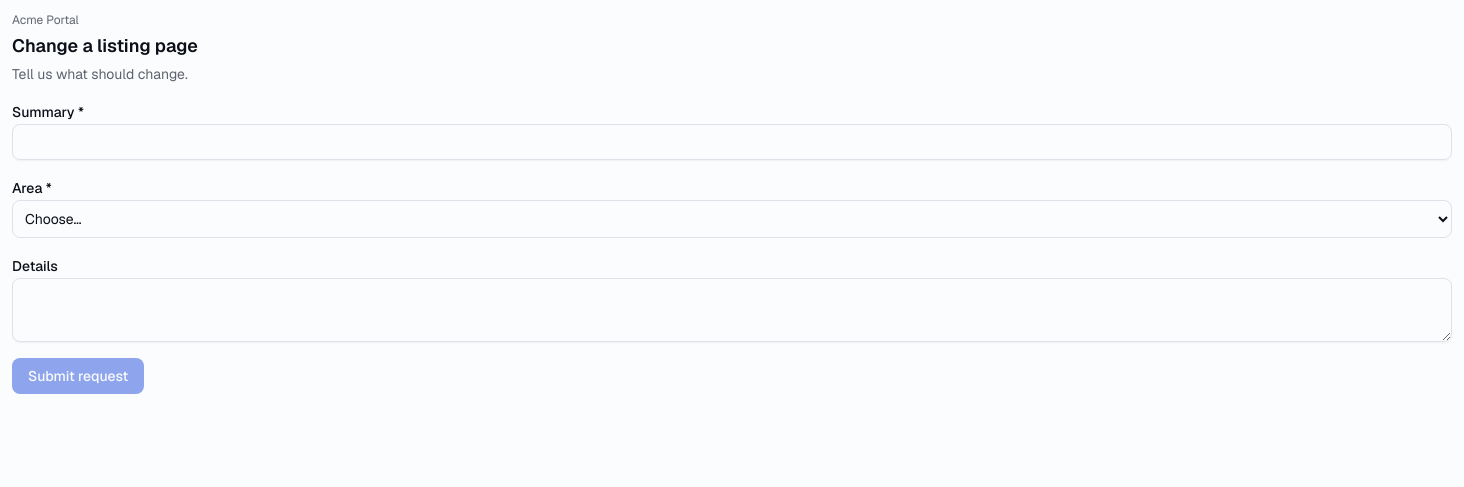
Test case: RequestForm › reveals a conditional field only when its condition is met
This screenshot has width=1464, height=487.
Check: the field labelled "Listing URL" is not shown
Select "Listings" in the dropdown labelled "Area *" at (732, 219), box [12, 200, 1452, 238]
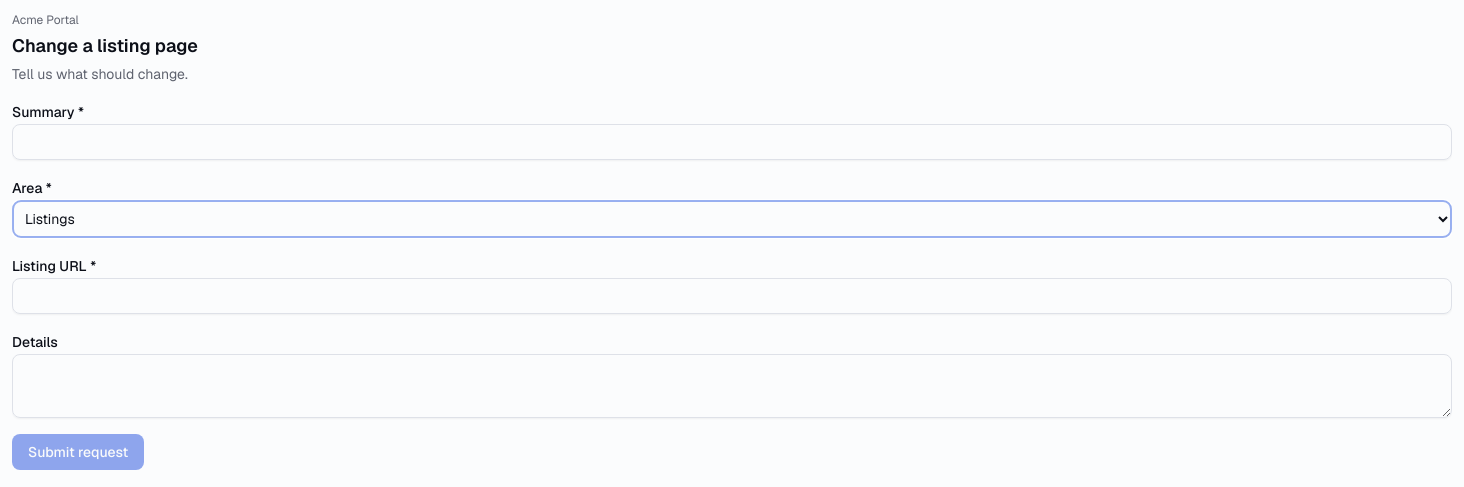
Select "Search" in the dropdown labelled "Area *" at (732, 219), box [12, 200, 1452, 238]
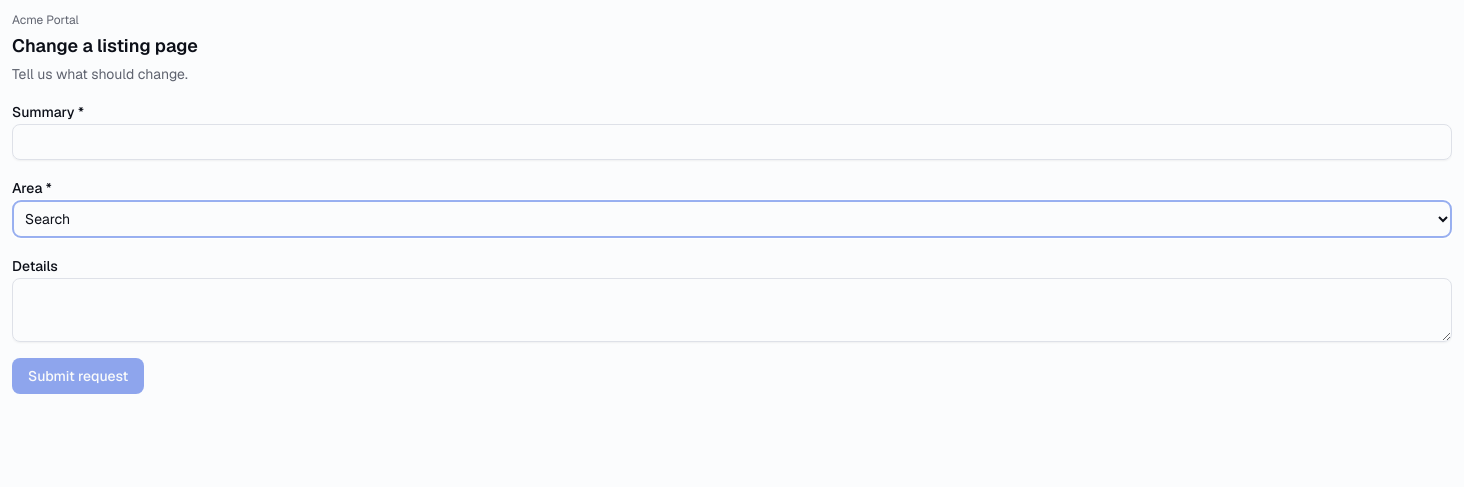
Check: the label labelled "Listing URL" is gone
